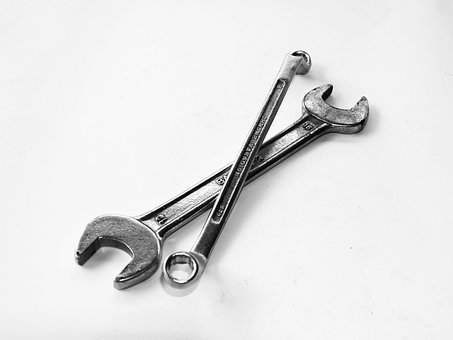Job: (55, 75, 393, 290)
